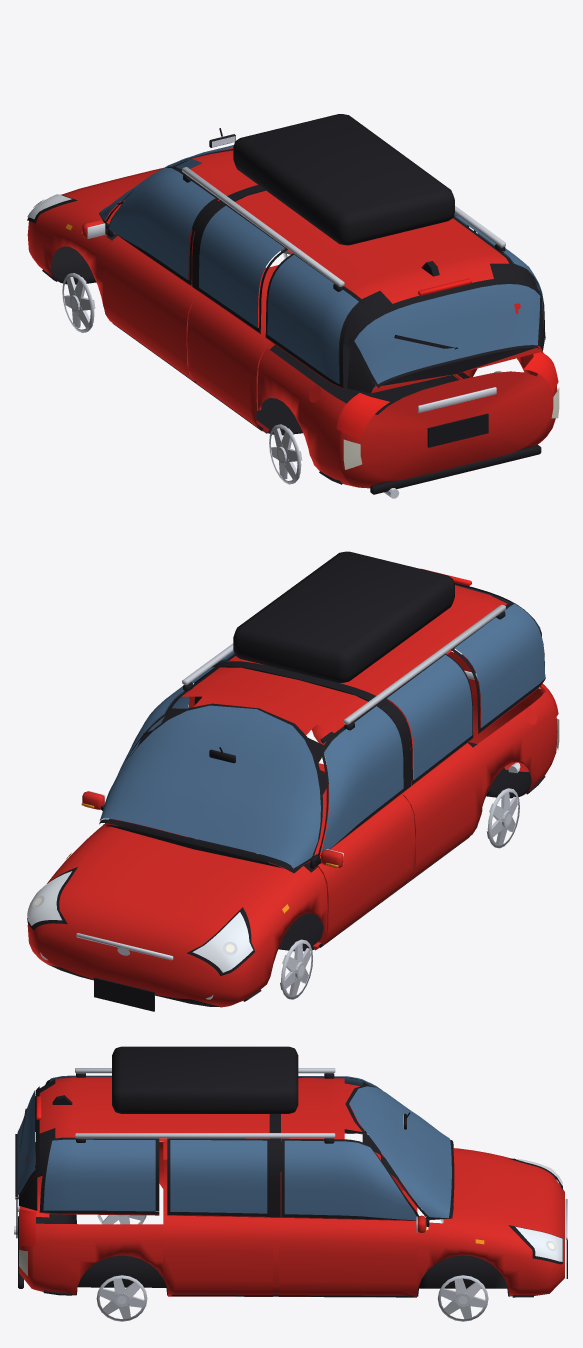
Rendered from veh_mpv.fbx.
3 renders of one model, top to bottom at view 1: azimuth 30°, elevation 25°; view 2: azimuth 150°, elevation 25°; view 3: azimuth 270°, elevation 25°, orthographic. The views are drawn at different scales.
Visible parts, largest first — view 1: Body, Glass, Var_Rack_pod_Roof, Detail, Door_FL, Door_RL, Door_FL_Glass, Door_RL_Glass, BrakeLights, Rim_FL, Rim_RL, ReverseLights; view 2: Body, Glass, Var_Rack_pod_Roof, Detail, Door_FL, Door_FL_Glass, Door_RL, Door_RL_Glass, HeadLights, Rim_RL, Rim_FL, Door_FR_Glass; view 3: Body, Glass, Var_Rack_pod_Roof, Door_FR, Door_RR, Door_FR_Glass, Detail, Door_RR_Glass, Rim_FR, Rim_RR, HeadLights, BrakeLights (+1 smaller).
Boxes of the visible parts, bbox=[...] form: Body: bbox=[27, 148, 557, 488]; Glass: bbox=[99, 145, 545, 383]; Var_Rack_pod_Roof: bbox=[233, 114, 454, 245]; Detail: bbox=[27, 128, 545, 498]; Door_FL: bbox=[102, 166, 266, 381]; Door_RL: bbox=[190, 204, 287, 433]; Door_FL_Glass: bbox=[108, 168, 214, 279]; Door_RL_Glass: bbox=[199, 206, 284, 327]; BrakeLights: bbox=[336, 278, 558, 439]; Rim_FL: bbox=[62, 273, 95, 332]; Rim_RL: bbox=[269, 424, 302, 484]; ReverseLights: bbox=[343, 387, 559, 469]; Body: bbox=[27, 585, 557, 1007]; Glass: bbox=[99, 584, 545, 868]; Var_Rack_pod_Roof: bbox=[233, 551, 454, 682]; Detail: bbox=[27, 582, 545, 1011]; Door_FL: bbox=[308, 705, 412, 950]; Door_FL_Glass: bbox=[321, 706, 403, 853]; Door_RL: bbox=[383, 653, 482, 881]; Door_RL_Glass: bbox=[387, 655, 472, 779]; HeadLights: bbox=[27, 871, 253, 972]; Rim_RL: bbox=[486, 788, 519, 848]; Rim_FL: bbox=[280, 939, 312, 999]; Door_FR_Glass: bbox=[117, 667, 214, 774]; Body: bbox=[19, 1077, 564, 1296]; Glass: bbox=[17, 1075, 451, 1217]; Var_Rack_pod_Roof: bbox=[112, 1046, 298, 1113]; Door_FR: bbox=[278, 1138, 418, 1297]; Door_RR: bbox=[163, 1138, 272, 1296]; Door_FR_Glass: bbox=[284, 1140, 416, 1220]; Detail: bbox=[14, 1068, 567, 1297]; Door_RR_Glass: bbox=[170, 1140, 267, 1213]; Rim_FR: bbox=[437, 1275, 488, 1321]; Rim_RR: bbox=[96, 1275, 147, 1321]; HeadLights: bbox=[515, 1159, 562, 1261]; BrakeLights: bbox=[19, 1096, 41, 1246].
Size of what is drawn, in the model's own units: 1.99 by 2 by 4.47.
Materials: 1 (1 with a texture image).
